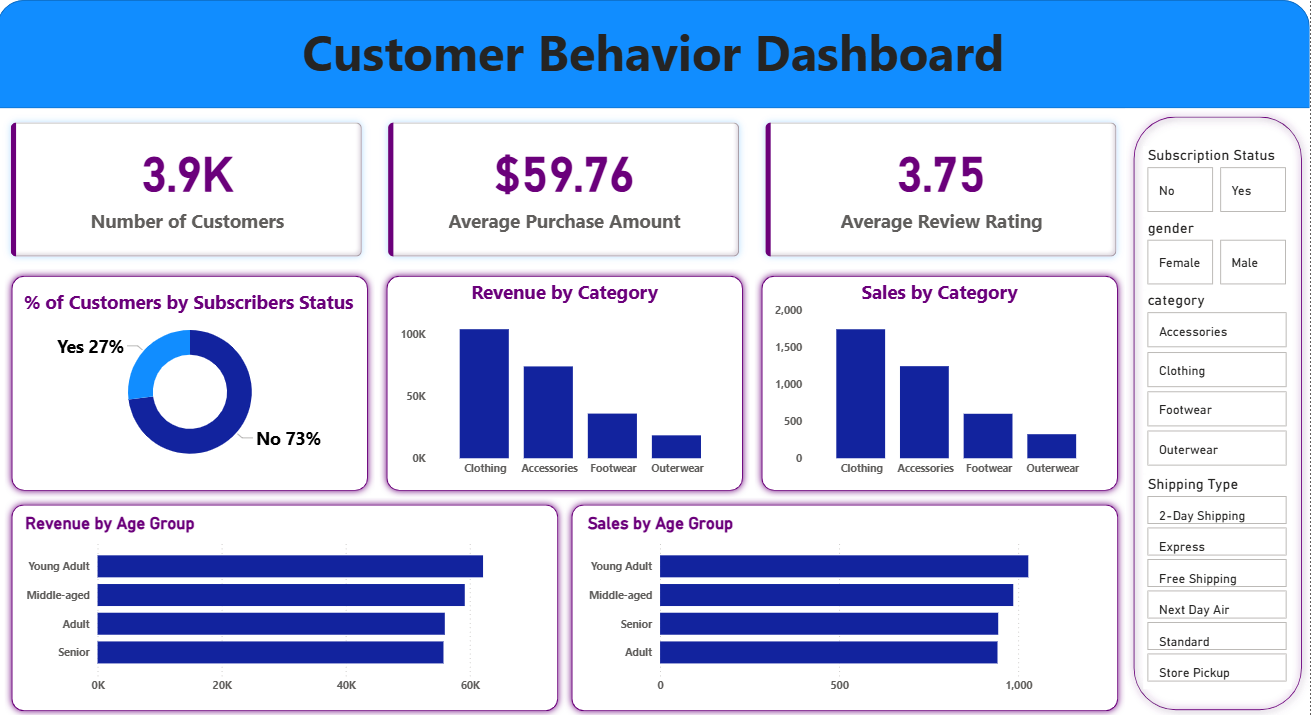

What the dashboard file says about the page in this screenshot:
{"tool":"powerbi","page":{"name":"Page 1","canvas":[1500,820],"ordinal":0},"visuals":[{"type":"cardVisual","fields":{"Data":["customer_shopping_behavior customer.Number of Customers","customer_shopping_behavior customer.Average Purchase Amount","customer_shopping_behavior customer.Average Review Rating"]},"box":[0,123.9,1295.2,185.2],"z":0},{"type":"shape","box":[0,0,1500.3,123.8],"z":1000},{"type":"textbox","box":[0,15.3,1499.9,108.6],"z":2000},{"type":"shape","box":[866.2,306.7,423.4,261.8],"z":3000},{"type":"shape","box":[437.3,306.7,423.4,261.8],"z":4000},{"type":"shape","box":[8.4,306.7,423.4,261.8],"z":5000},{"type":"donutChart","title":"% of Customers by Subscribers Status","fields":{"Category":["customer_shopping_behavior customer.subscription_status"],"Y":["CountNonNull(customer_shopping_behavior customer.customer_id)"]},"box":[25.1,330.3,389.9,214.5],"z":6000},{"type":"clusteredColumnChart","title":"Revenue by Category","fields":{"Y":["Sum(customer_shopping_behavior customer.purchase_amount)"],"Category":["customer_shopping_behavior customer.category"]},"box":[455.4,319.2,385.8,235.4],"z":7000},{"type":"clusteredColumnChart","title":"Sales by Category","fields":{"Y":["CountNonNull(customer_shopping_behavior customer.customer_id)"],"Category":["customer_shopping_behavior customer.category"]},"box":[884.3,319.2,385.8,235.4],"z":8000},{"type":"shape","box":[1289.6,123.9,210.3,696.3],"z":9000},{"type":"advancedSlicerVisual","fields":{"Values":["customer_shopping_behavior customer.subscription_status"]},"box":[1310.5,167.1,169.9,80.8],"z":10000},{"type":"advancedSlicerVisual","fields":{"Values":["customer_shopping_behavior customer.gender"]},"box":[1310.5,249.3,169.9,80.8],"z":11000},{"type":"advancedSlicerVisual","fields":{"Values":["customer_shopping_behavior customer.category"]},"box":[1310.5,332.8,169.9,207.5],"z":12000},{"type":"advancedSlicerVisual","fields":{"Values":["customer_shopping_behavior customer.shipping_type"]},"box":[1310.5,543.1,169.9,245.1],"z":13000},{"type":"shape","box":[8.4,568.2,640.6,252.1],"z":14000},{"type":"clusteredBarChart","title":"Revenue by Age Group","fields":{"Y":["Sum(customer_shopping_behavior customer.purchase_amount)"],"Category":["customer_shopping_behavior customer.age_group"]},"box":[27.9,587.7,600.2,214.5],"z":15000},{"type":"shape","box":[649,568.2,640.6,252.1],"z":16000},{"type":"clusteredBarChart","title":"Sales by Age Group","fields":{"Y":["CountNonNull(customer_shopping_behavior customer.customer_id)"],"Category":["customer_shopping_behavior customer.age_group"]},"box":[669.9,587.7,600.2,214.5],"z":17000}]}

Visuals, with their boxes in screenshot pixels (x1, y1, x2, y2), scaled from the page's 1500x820 canvas onto the 1311x715 screenshot:
cardVisual - customer_shopping_behavior customer.Number of Customers x customer_shopping_behavior customer.Average Purchase Amount: <bbox>0, 108, 1132, 270</bbox>
shape: <bbox>0, 0, 1310, 108</bbox>
textbox: <bbox>0, 13, 1310, 108</bbox>
shape: <bbox>757, 267, 1127, 496</bbox>
shape: <bbox>382, 267, 752, 496</bbox>
shape: <bbox>7, 267, 377, 496</bbox>
"% of Customers by Subscribers Status" donutChart: <bbox>22, 288, 363, 475</bbox>
"Revenue by Category" clusteredColumnChart: <bbox>398, 278, 735, 484</bbox>
"Sales by Category" clusteredColumnChart: <bbox>773, 278, 1110, 484</bbox>
shape: <bbox>1127, 108, 1310, 714</bbox>
advancedSlicerVisual - customer_shopping_behavior customer.subscription_status: <bbox>1145, 146, 1294, 216</bbox>
advancedSlicerVisual - customer_shopping_behavior customer.gender: <bbox>1145, 217, 1294, 288</bbox>
advancedSlicerVisual - customer_shopping_behavior customer.category: <bbox>1145, 290, 1294, 471</bbox>
advancedSlicerVisual - customer_shopping_behavior customer.shipping_type: <bbox>1145, 474, 1294, 687</bbox>
shape: <bbox>7, 495, 567, 714</bbox>
"Revenue by Age Group" clusteredBarChart: <bbox>24, 512, 549, 699</bbox>
shape: <bbox>567, 495, 1127, 714</bbox>
"Sales by Age Group" clusteredBarChart: <bbox>585, 512, 1110, 699</bbox>
